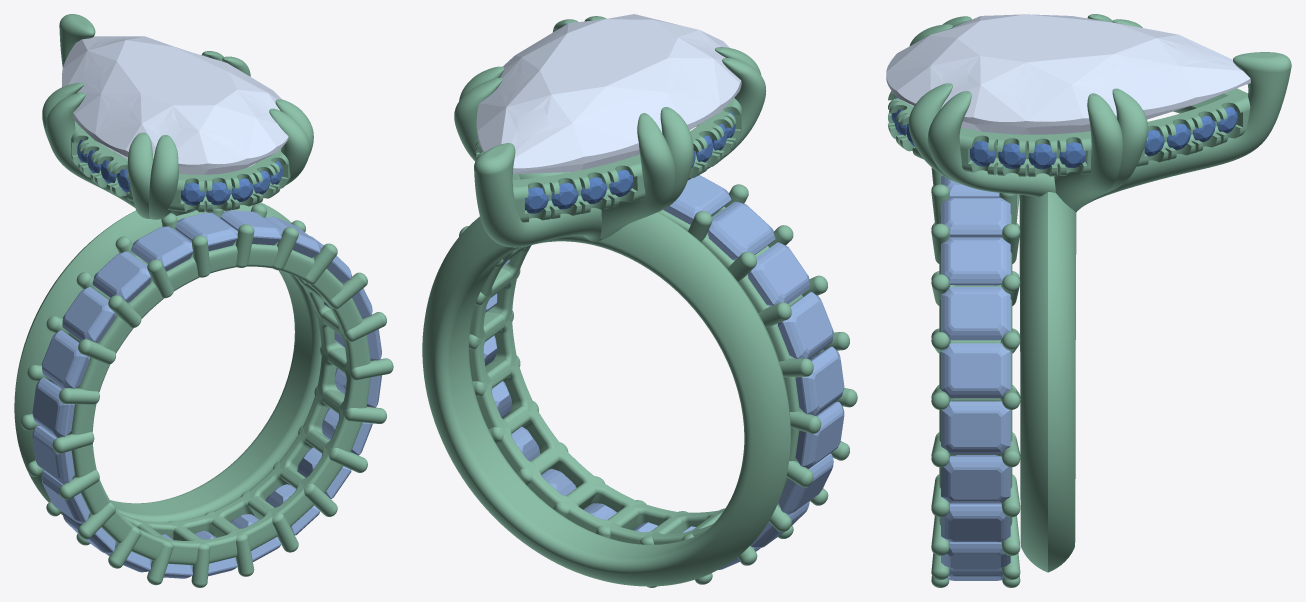
3 renders of one model, left to right at view 1: azimuth 30°, elevation 25°; view 2: azimuth 150°, elevation 25°; view 3: azimuth 270°, elevation 25°, orthographic. The views are drawn at different scales.
Visible parts, largest first — view 1: Export_10_Blank.3dm, Gem (×18); view 2: Export_10_Blank.3dm, Gem (×10); view 3: Gem (×14), Export_10_Blank.3dm.
Boxes of the visible parts, x1=… form: Export_10_Blank.3dm: x1=14, y1=14, x2=393, y2=587; Gem (×18): x1=32, y1=36, x2=381, y2=576; Export_10_Blank.3dm: x1=422, y1=16, x2=857, y2=587; Gem (×10): x1=476, y1=14, x2=844, y2=548; Gem (×14): x1=886, y1=14, x2=1250, y2=580; Export_10_Blank.3dm: x1=888, y1=14, x2=1291, y2=587.
Bounding box in the file's own units: 2.1 × 2.79 × 1.95.
